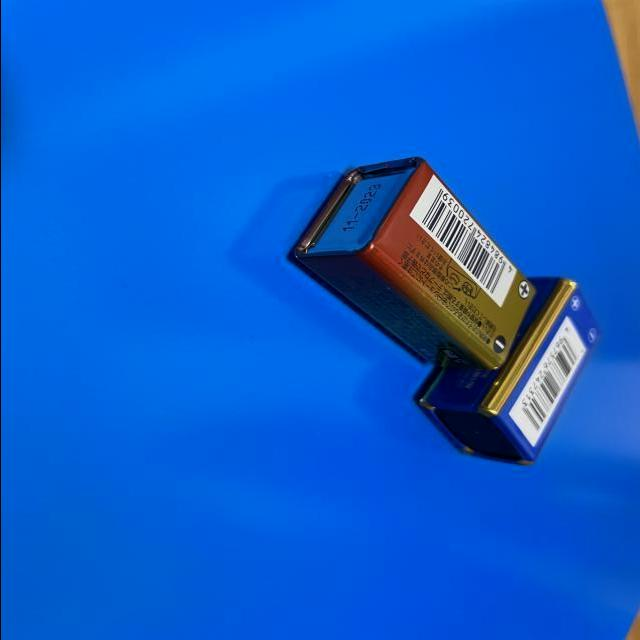9V: (288, 157, 536, 371), (414, 277, 603, 467)
